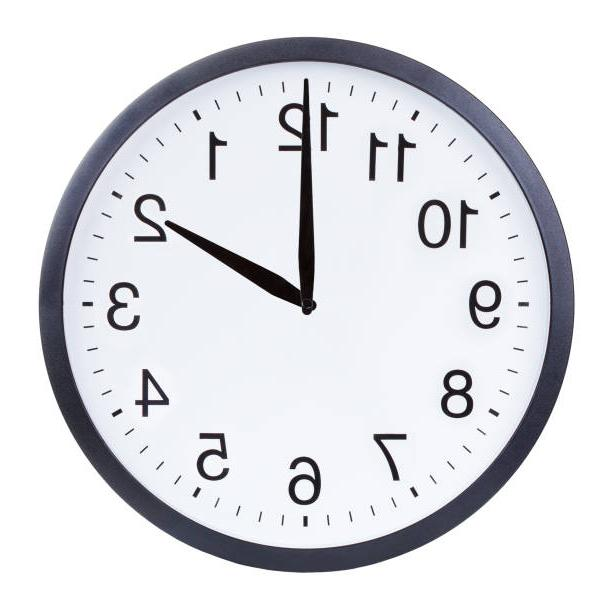clock: (28, 24, 573, 581)
